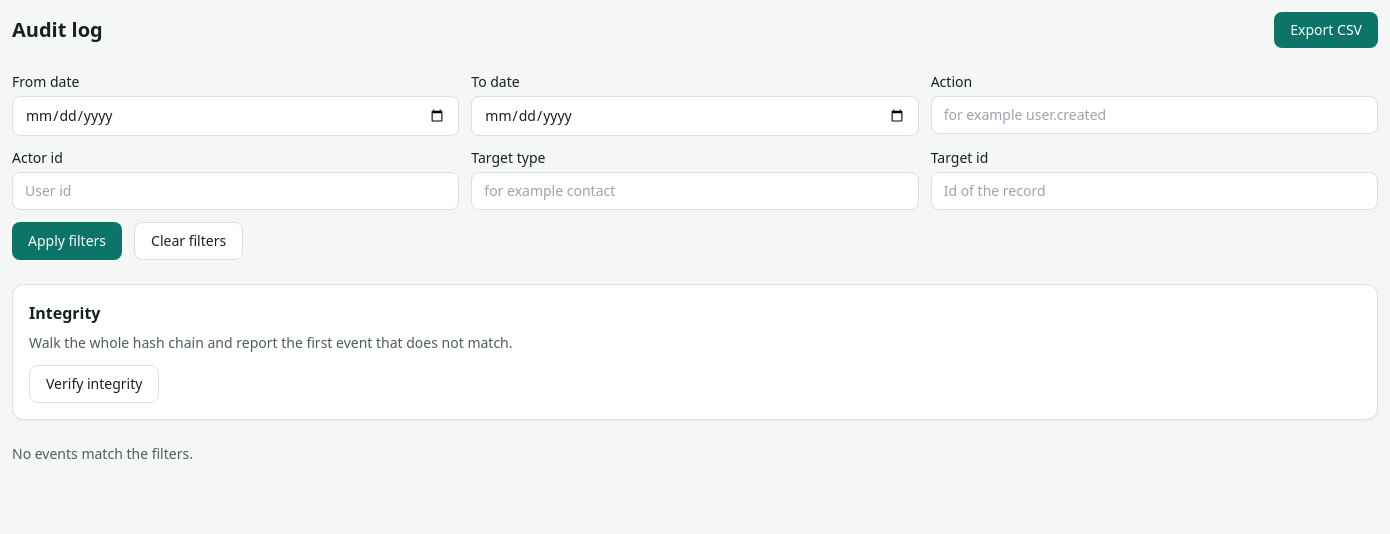
Scenario: AuditPage › shows a valid verification result
Click the button "Verify integrity".
click(94, 384)  # box [29,365,159,403]
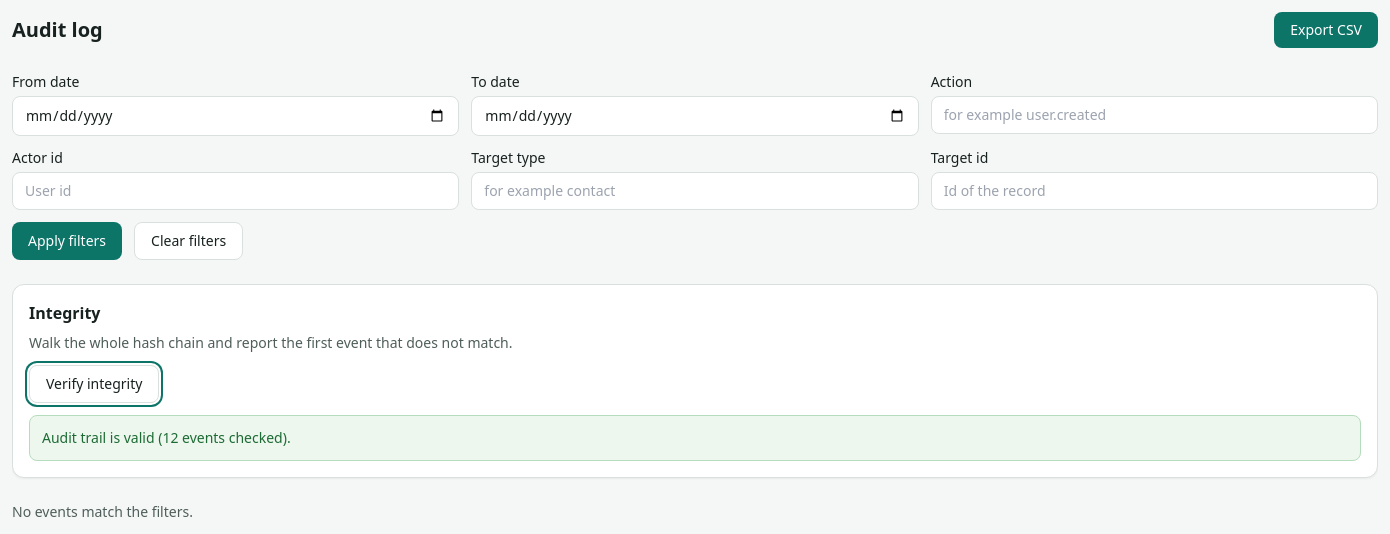
Expected: the message shows "valid (12 events checked)", [42,428,291,447]
